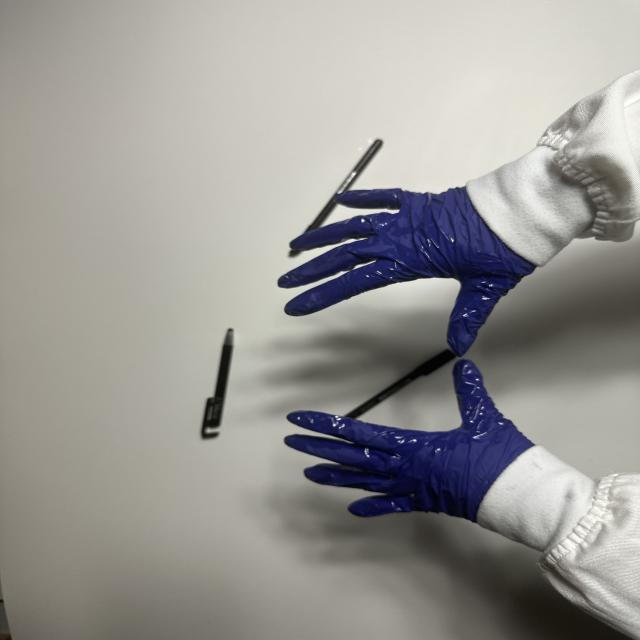gloves_contaminated: (279, 188, 535, 356), (285, 360, 533, 521)
